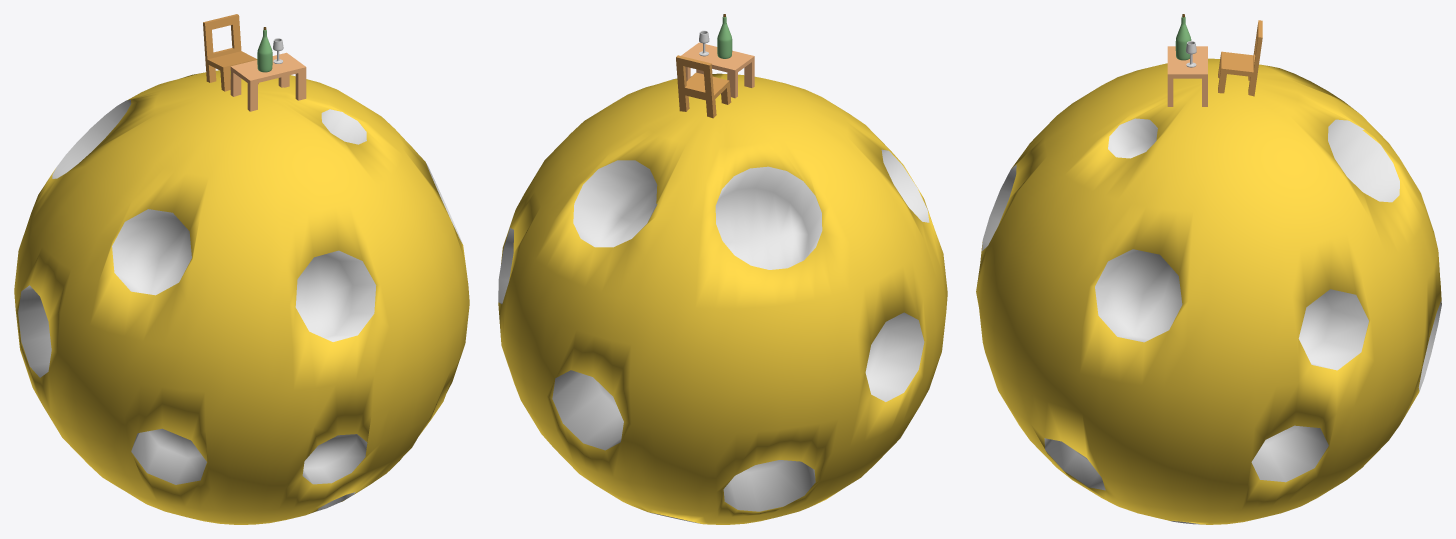
File: WineGlass.fbx
3 views of the same model, side by side, from view 1: azimuth 30°, elevation 25°; view 2: azimuth 150°, elevation 25°; view 3: azimuth 270°, elevation 25° (orthographic). The views are drawn at different scales.
Visible parts, largest first — view 1: Sphere, Plane, Plane.002; view 2: Sphere, Plane.002, Plane; view 3: Sphere, Plane, Plane.002.
Part boxes in pixels (x1,y1,x2,y2): Sphere: [14, 70, 469, 524]; Plane: [230, 52, 306, 111]; Plane.002: [203, 14, 258, 91]; Sphere: [498, 73, 947, 524]; Plane.002: [676, 55, 731, 118]; Plane: [681, 42, 754, 98]; Sphere: [976, 58, 1441, 524]; Plane: [1167, 46, 1207, 106]; Plane.002: [1218, 20, 1262, 96].
Size of the model in its own units: 2316 by 2707 by 2314.
